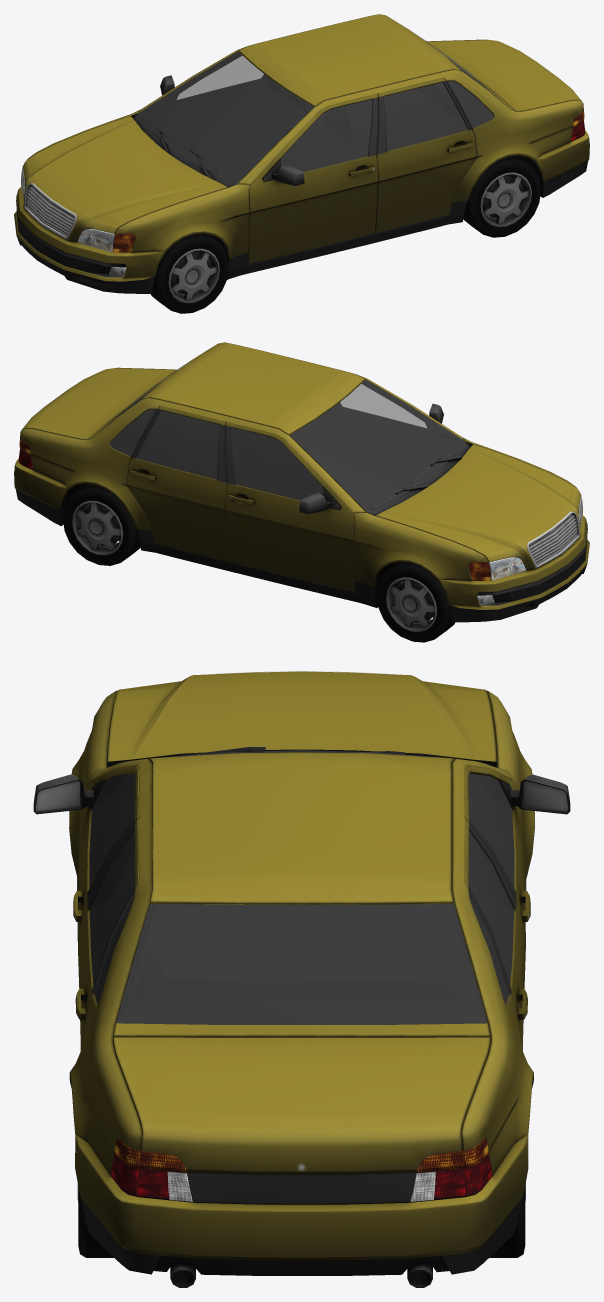
Rendered from sedan.glb.
3 renders of one model, top to bottom at view 1: azimuth 30°, elevation 25°; view 2: azimuth 150°, elevation 25°; view 3: azimuth 270°, elevation 25°, orthographic. The views are drawn at different scales.
Parts seen in each view (by area): view 1: sedan; view 2: sedan; view 3: sedan.
Boxes of the visible parts, x1,y1,x2,y2 form: sedan: [14, 14, 589, 313]; sedan: [14, 342, 589, 642]; sedan: [33, 671, 570, 1287].
Size of the model in its own units: 4.8 by 1.48 by 2.14.
4 materials, 3 textured.
